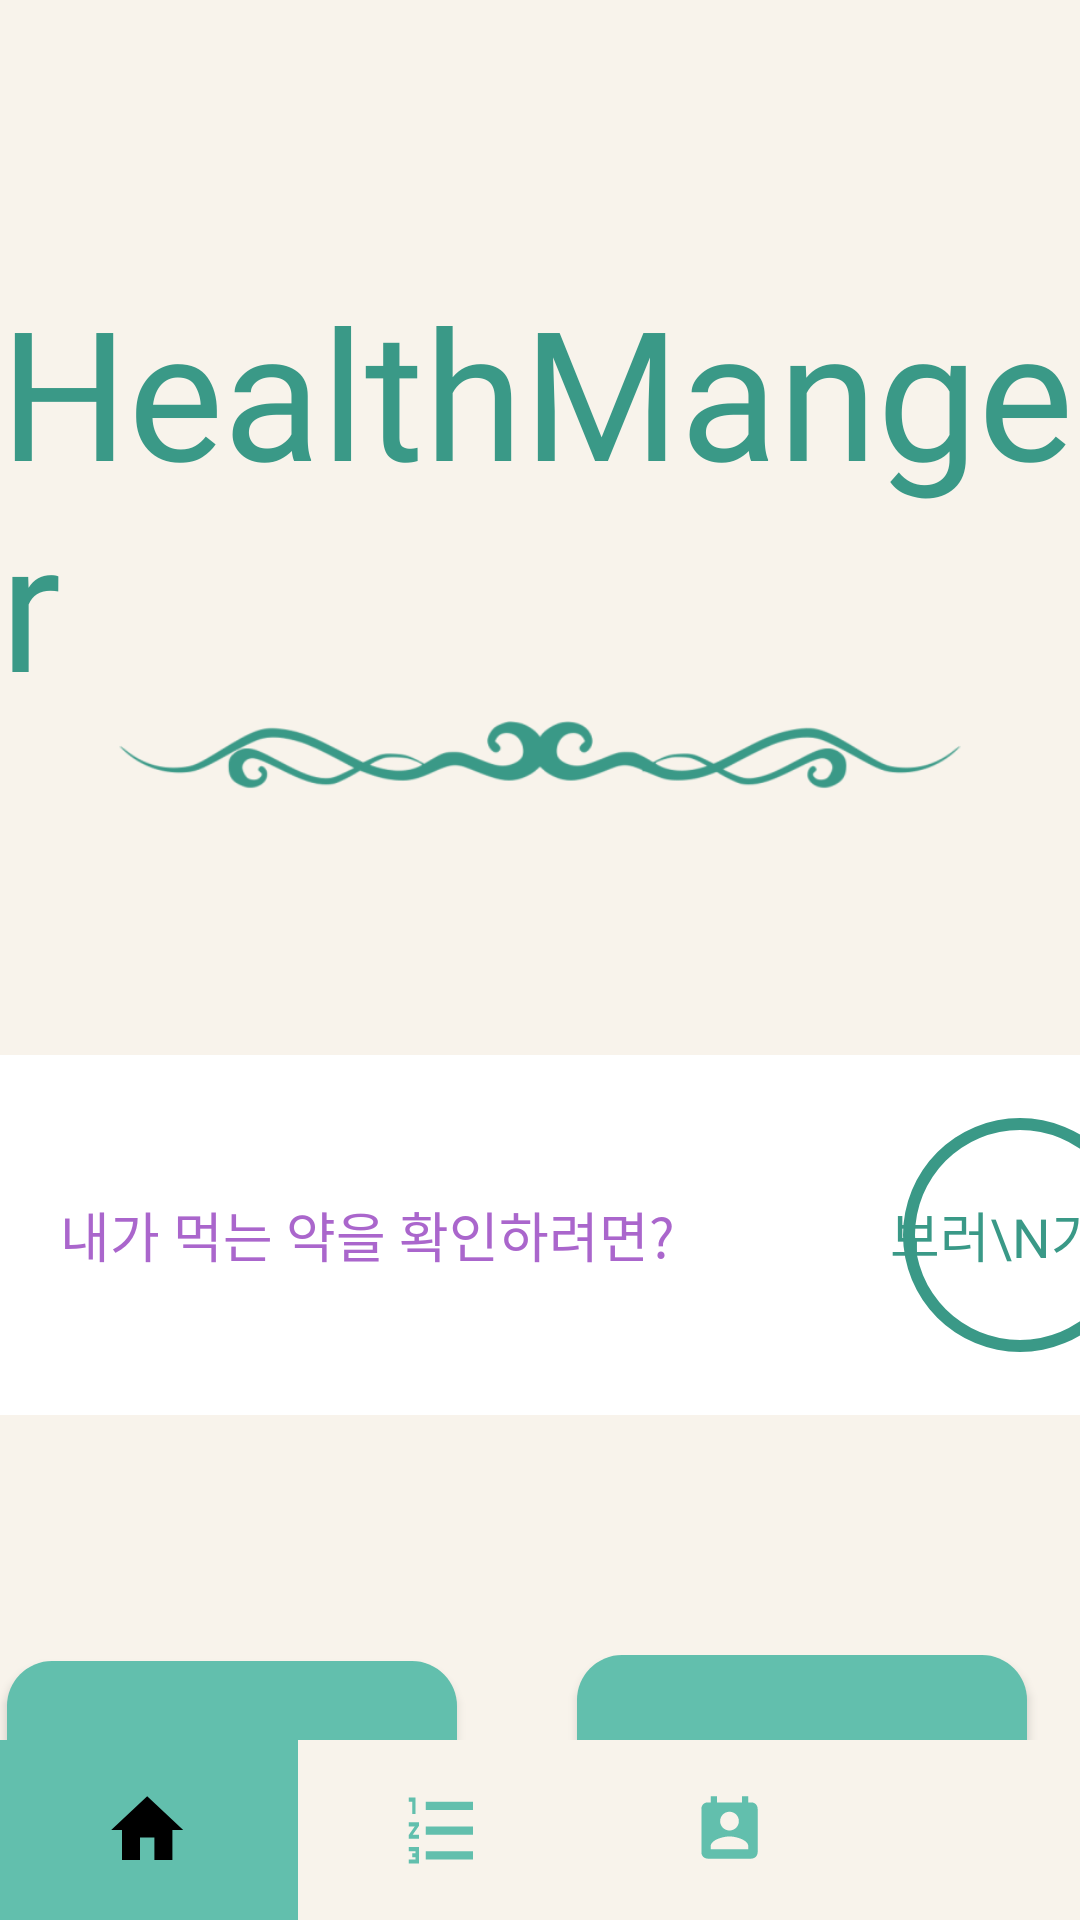

Named icons in this screenshot (1080px×1920px) and their bounding boxes, (x1, y1, x2, y2):
bottom menu calendar: (701, 1796, 758, 1859)
bottom menu home: (111, 1796, 183, 1860)
